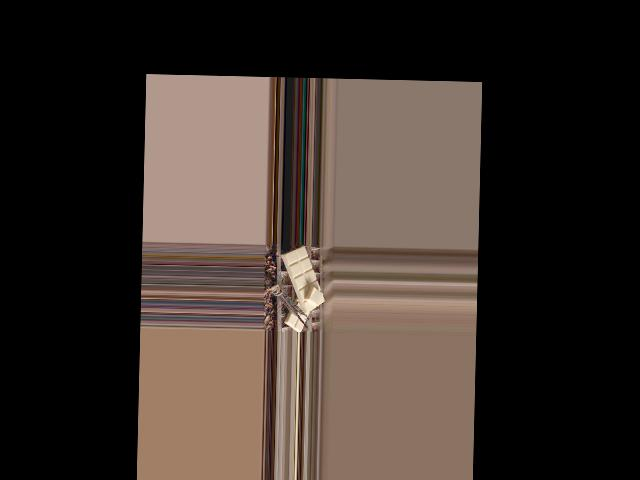chocolate: (281, 246, 325, 315)
